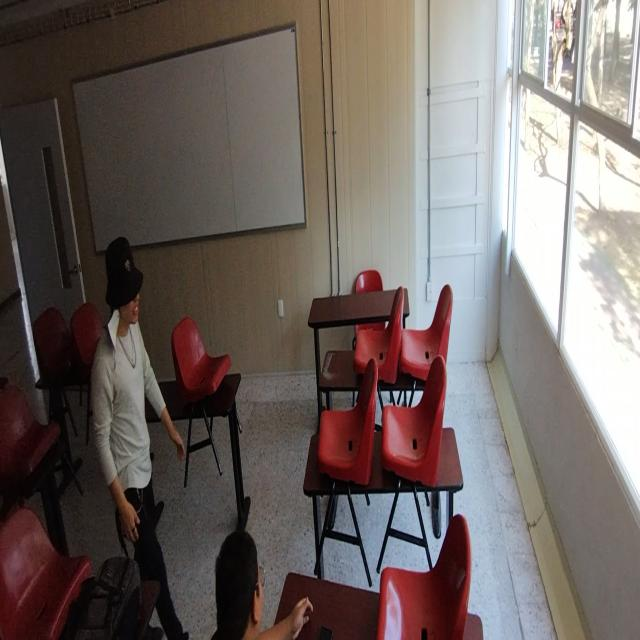adult: (91, 243, 188, 640), (206, 528, 313, 640)
